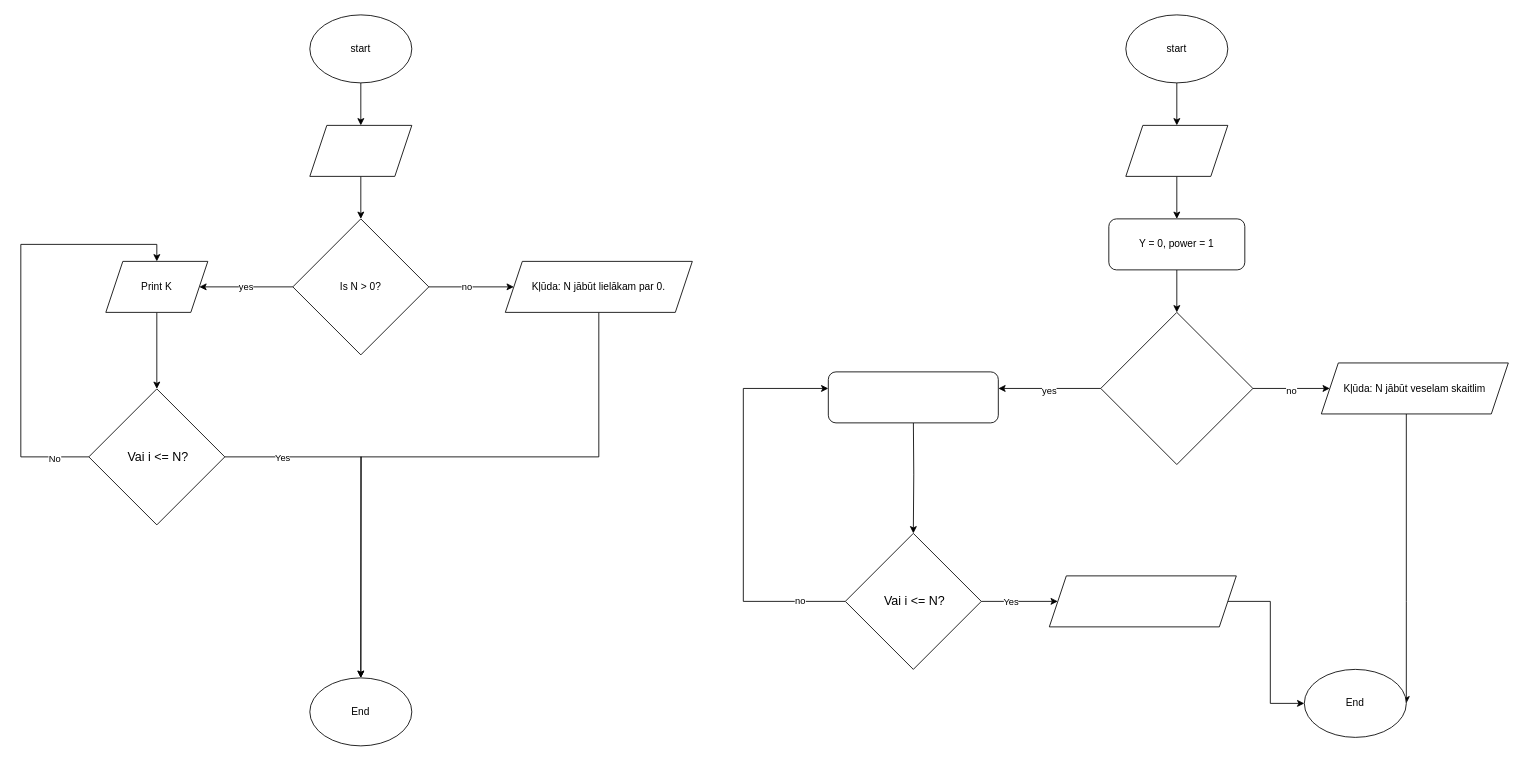
This 1523x761 diagram has some shape labels left out. Each missing label, with the centre of its shape:
"input K, N" belongs at (x=360, y=150).
"Input x, N" belongs at (x=1176, y=150).
"Print Y" belongs at (x=1142, y=601).
"Vai N ir vesels skaitlis?" belongs at (x=1176, y=388).
"Y += 1 / (x^power) power *= 2" belongs at (x=912, y=397).
